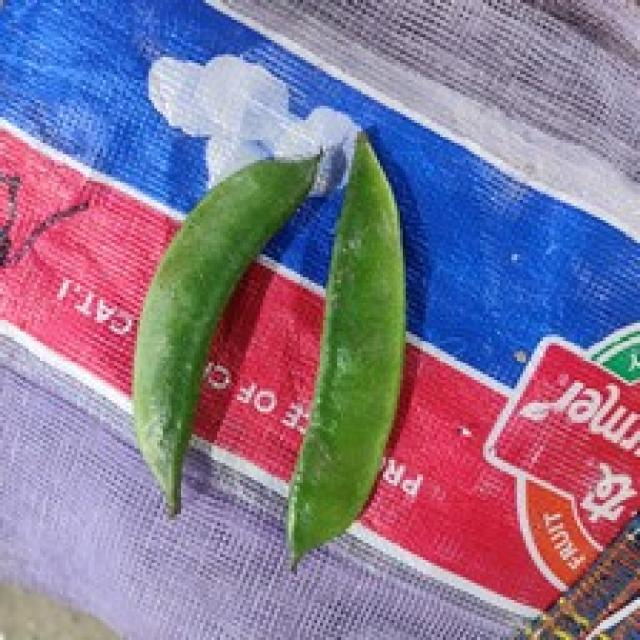Bean: (129, 146, 320, 517), (283, 126, 406, 571)
